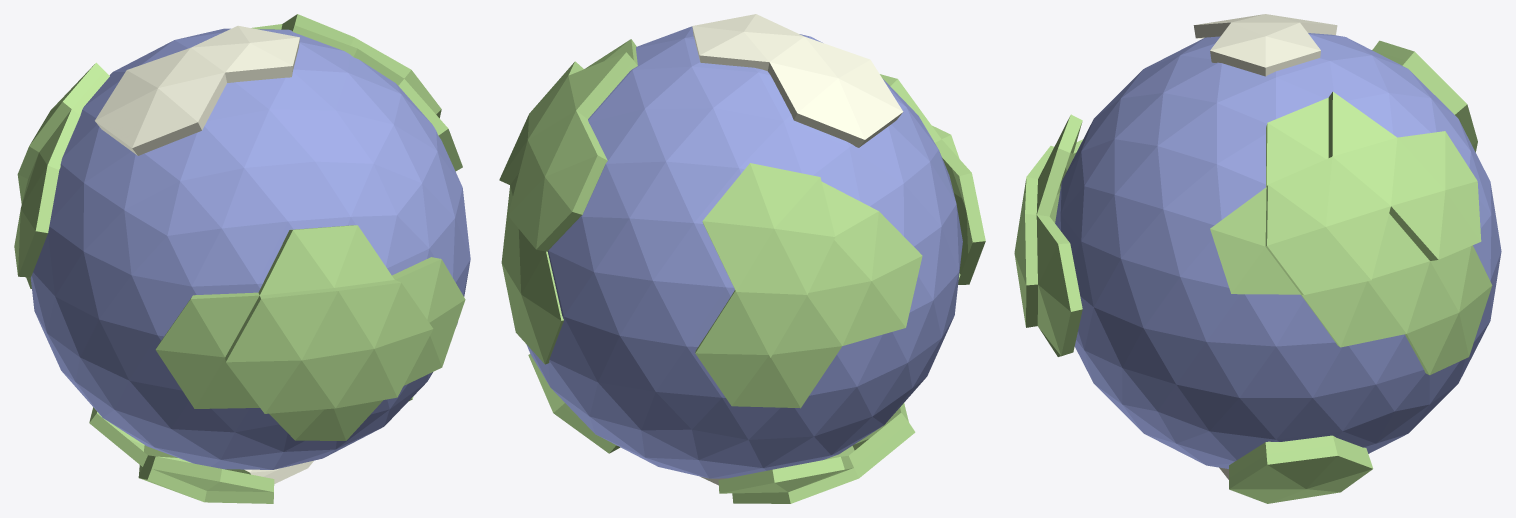
The model's file is globle.glb.
3 views of the same model, side by side, from view 1: azimuth 30°, elevation 25°; view 2: azimuth 150°, elevation 25°; view 3: azimuth 270°, elevation 25° (orthographic). The views are drawn at different scales.
Visible parts, largest first — view 1: Water, Continents; view 2: Water, Continents; view 3: Water, Continents.
Part boxes in pixels (box(x1,y1,x2,y2)): Water: box(30, 28, 470, 469); Continents: box(14, 14, 465, 503); Water: box(526, 26, 962, 478); Continents: box(499, 14, 985, 503); Water: box(1055, 33, 1501, 468); Continents: box(1014, 14, 1492, 503).
Size of the model in its own units: 3 by 3.16 by 3.14.
